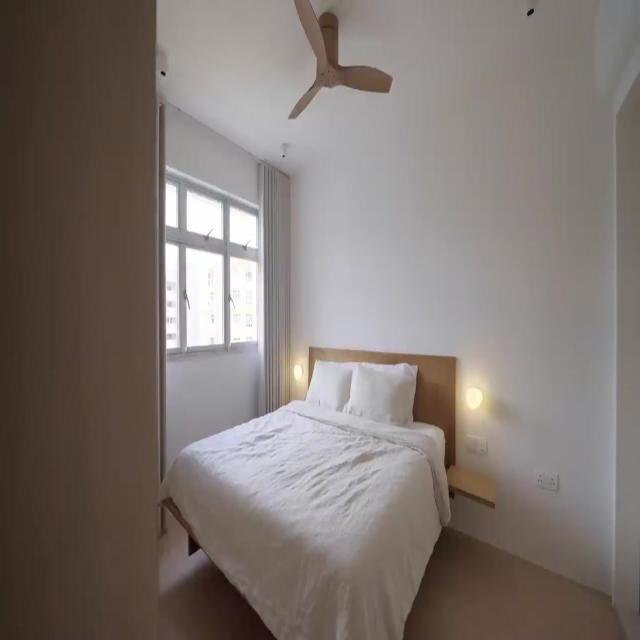obstacle: (158, 346, 458, 638), (446, 464, 496, 510)
